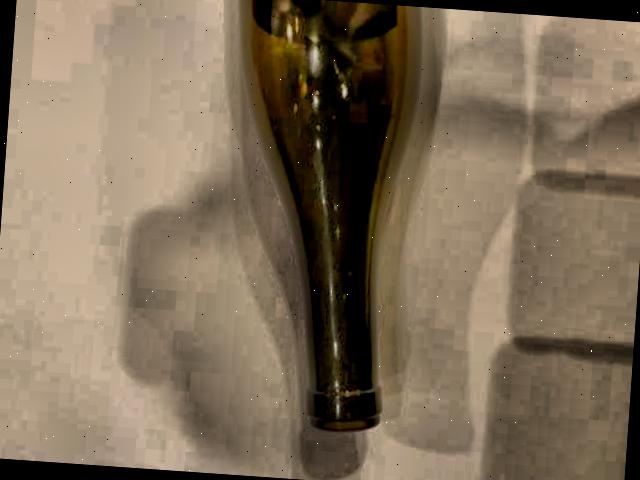Bottles: (189, 0, 514, 471)
